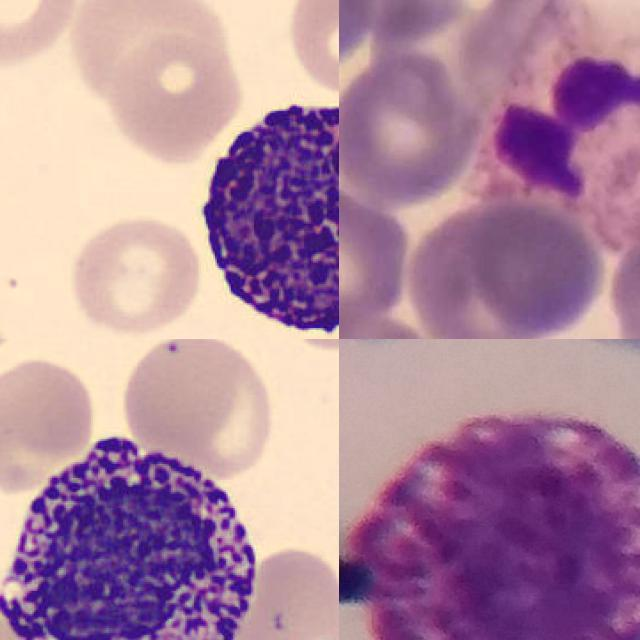Basophil: (348, 414, 640, 640), (0, 425, 270, 640), (188, 81, 339, 339)
Neutrophil: (478, 11, 640, 243)
RBC: (103, 26, 247, 164), (66, 212, 206, 339), (117, 339, 247, 453), (162, 346, 278, 469), (0, 354, 98, 493), (234, 543, 339, 640), (0, 0, 85, 74), (284, 0, 339, 100)
